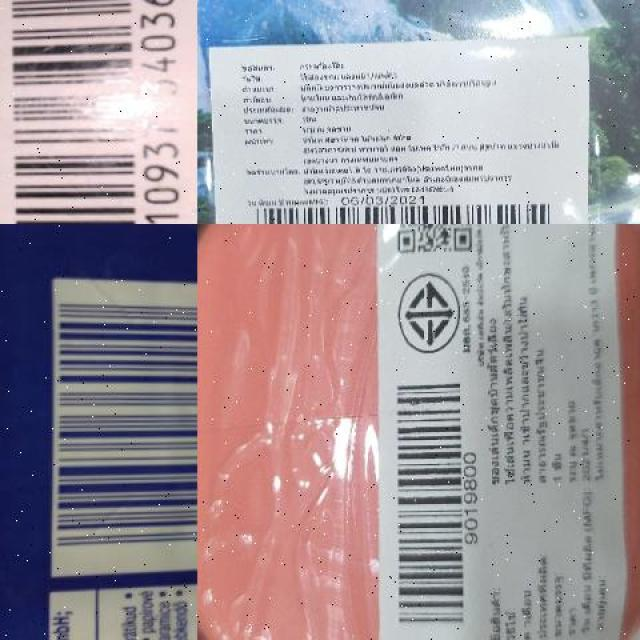Barcode: (49, 276, 198, 577), (0, 0, 197, 224), (387, 369, 476, 640), (244, 199, 561, 224)
